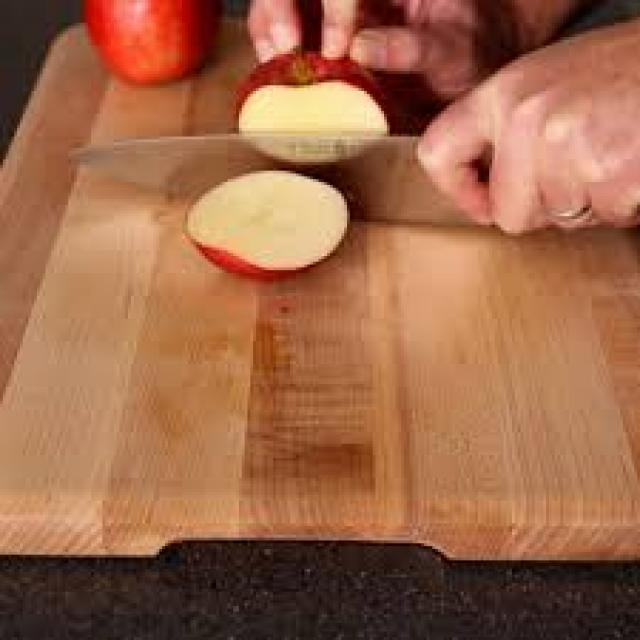Apple: (182, 168, 356, 282), (240, 57, 394, 162), (79, 0, 224, 82)
